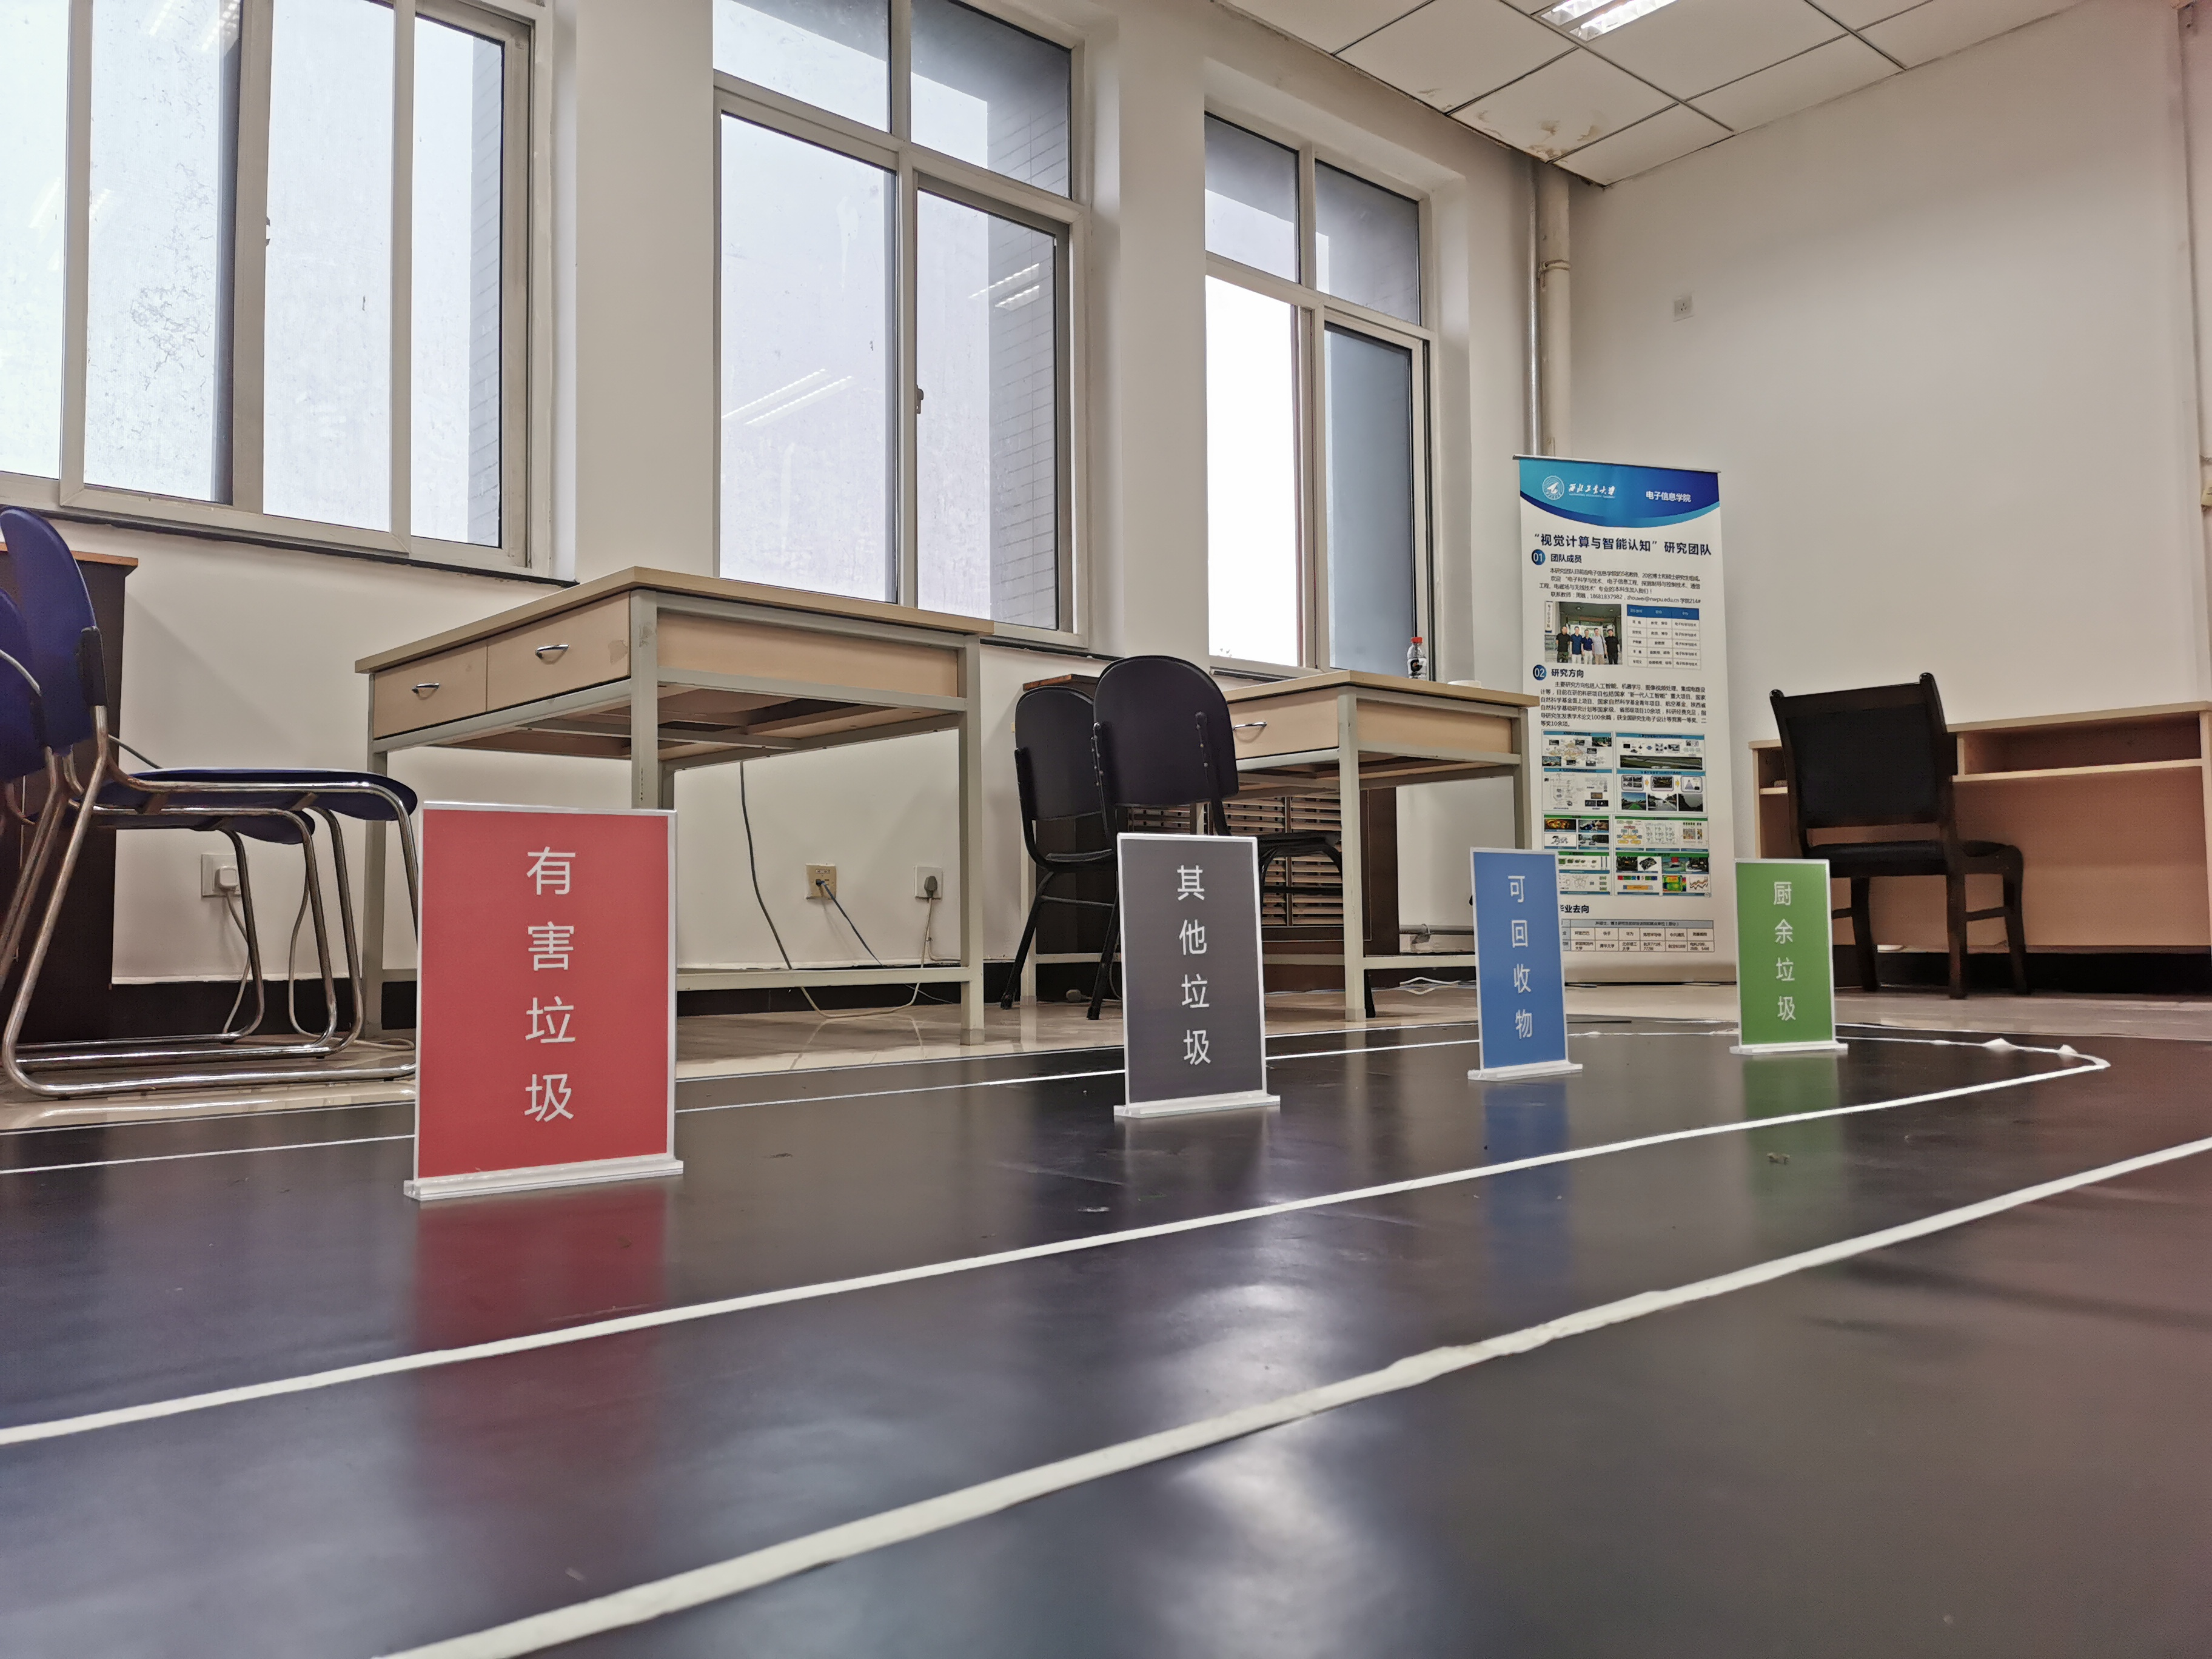black: (1139, 849, 1252, 1084)
blue: (1484, 861, 1555, 1054)
green: (1747, 864, 1825, 1035)
red: (427, 821, 658, 1147)
